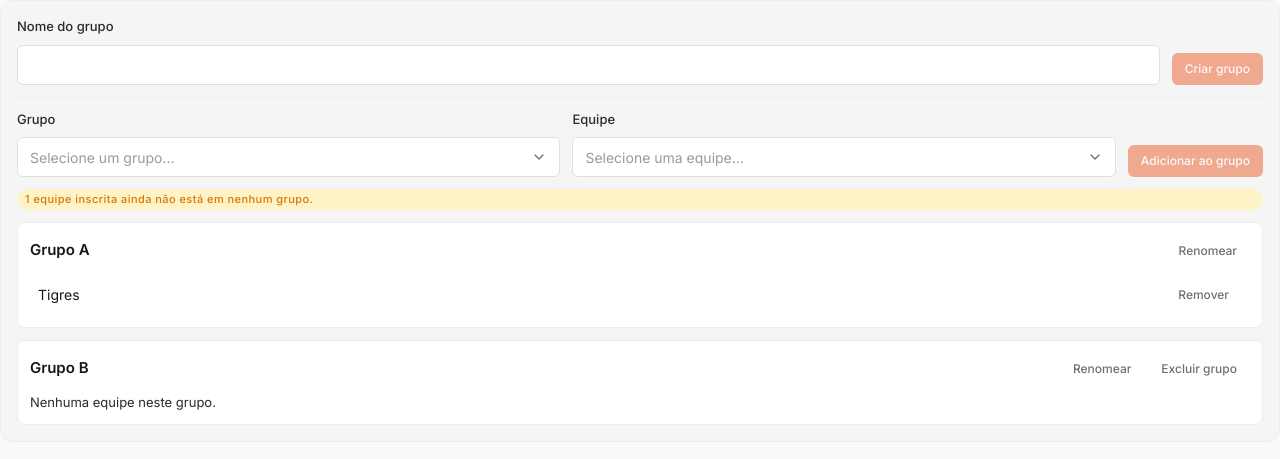
Scenario: GroupsPanel › offers only unassigned teams for assignment
This screenshot has width=1280, height=459.
Click the button labelled "Selecione uma equipe…". click: (665, 157)
box: [572, 137, 1116, 177]
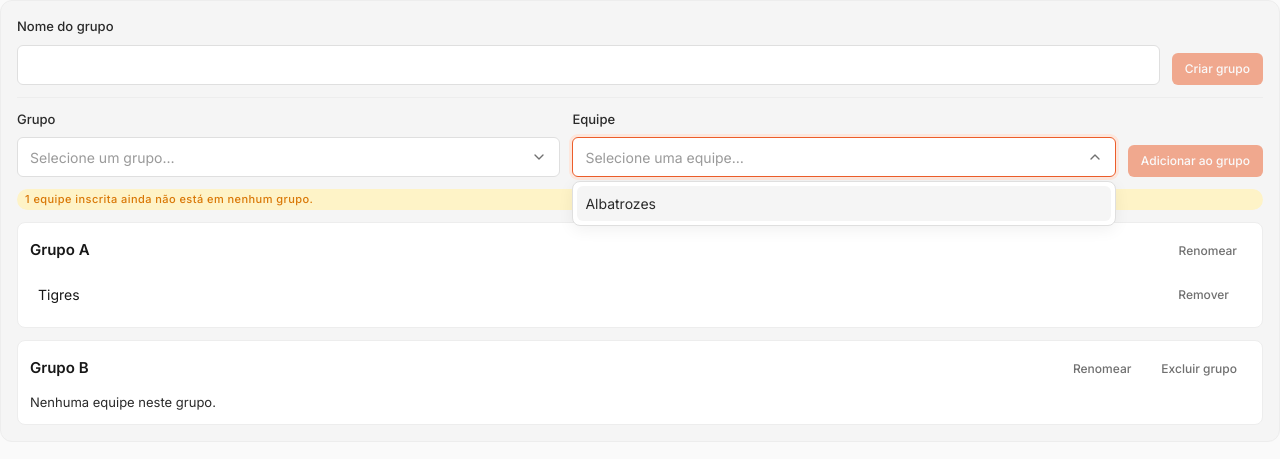
Expected: the option "Albatrozes" is shown, [577, 186, 1111, 221]
